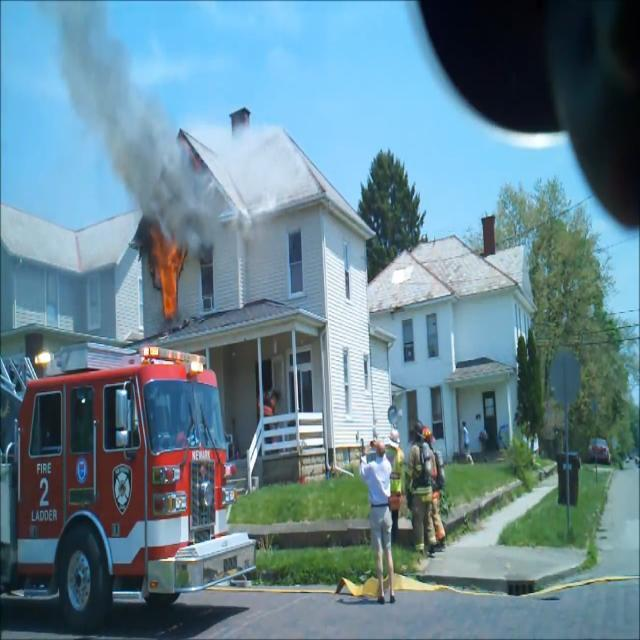Fire: (146, 222, 186, 319), (183, 146, 210, 182)
Smoke: (64, 12, 222, 252)
